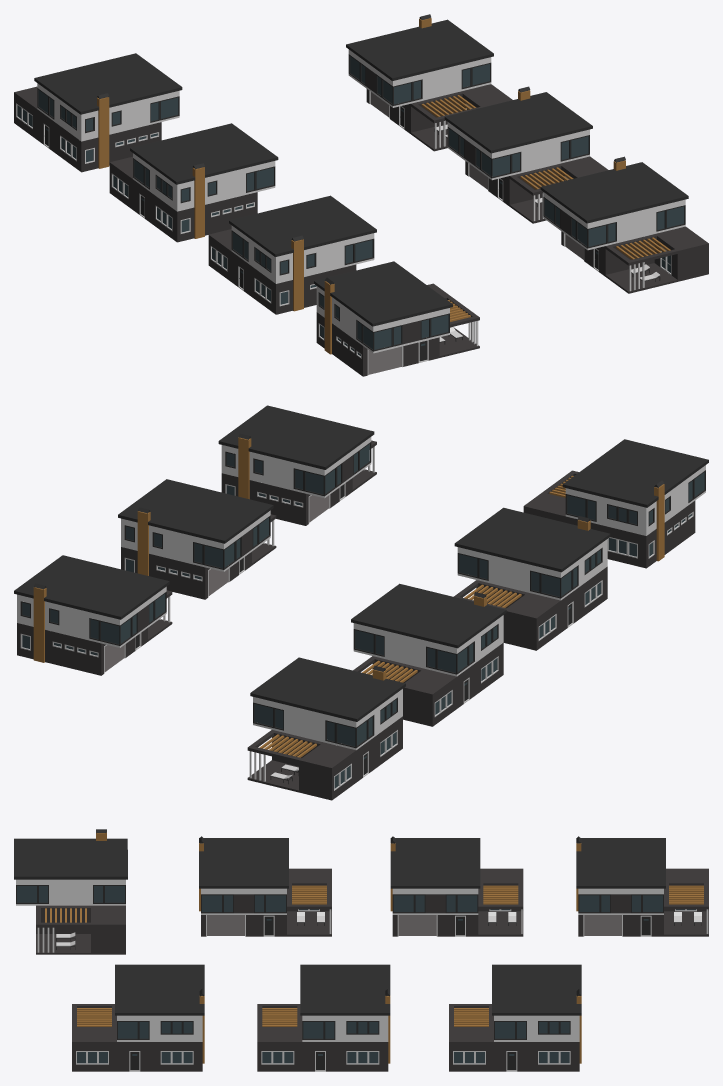
File: homes-right-buildings.glb
3 views of the same model, one above another, from view 1: azimuth 30°, elevation 25°; view 2: azimuth 150°, elevation 25°; view 3: azimuth 270°, elevation 25° (orthographic). The views are drawn at different scales.
Visible parts, largest first — view 1: building-house-modern.004, building-house-modern.007, building-house-modern.005, building-house-modern.002, building-house-modern.006, building-house-modern.001, building-house-modern.003; view 2: building-house-modern.005, building-house-modern.006, building-house-modern.007, building-house-modern.001, building-house-modern.002, building-house-modern.003, building-house-modern.004; view 3: building-house-modern.003, building-house-modern.001, building-house-modern.004, building-house-modern.002, building-house-modern.007, building-house-modern.005, building-house-modern.006.
Boxes of the visible parts, x1,y1,x2,y2 form: building-house-modern.004: (540,156,708,293); building-house-modern.007: (109,123,278,242); building-house-modern.005: (14,53,182,172); building-house-modern.002: (314,261,479,376); building-house-modern.006: (208,195,376,314); building-house-modern.001: (346,14,512,151); building-house-modern.003: (444,86,608,223); building-house-modern.005: (247,657,405,800); building-house-modern.006: (453,507,610,650); building-house-modern.007: (351,583,506,726); building-house-modern.001: (14,555,172,675); building-house-modern.002: (523,439,708,568); building-house-modern.003: (118,479,276,599); building-house-modern.004: (218,405,376,525); building-house-modern.003: (257,964,390,1071); building-house-modern.001: (449,964,581,1071); building-house-modern.004: (72,964,204,1071); building-house-modern.002: (14,829,127,954); building-house-modern.007: (390,836,523,936); building-house-modern.005: (576,836,708,936); building-house-modern.006: (199,836,331,936).
Bounding box in the file's own units: 41.45 × 7.77 × 69.61.
